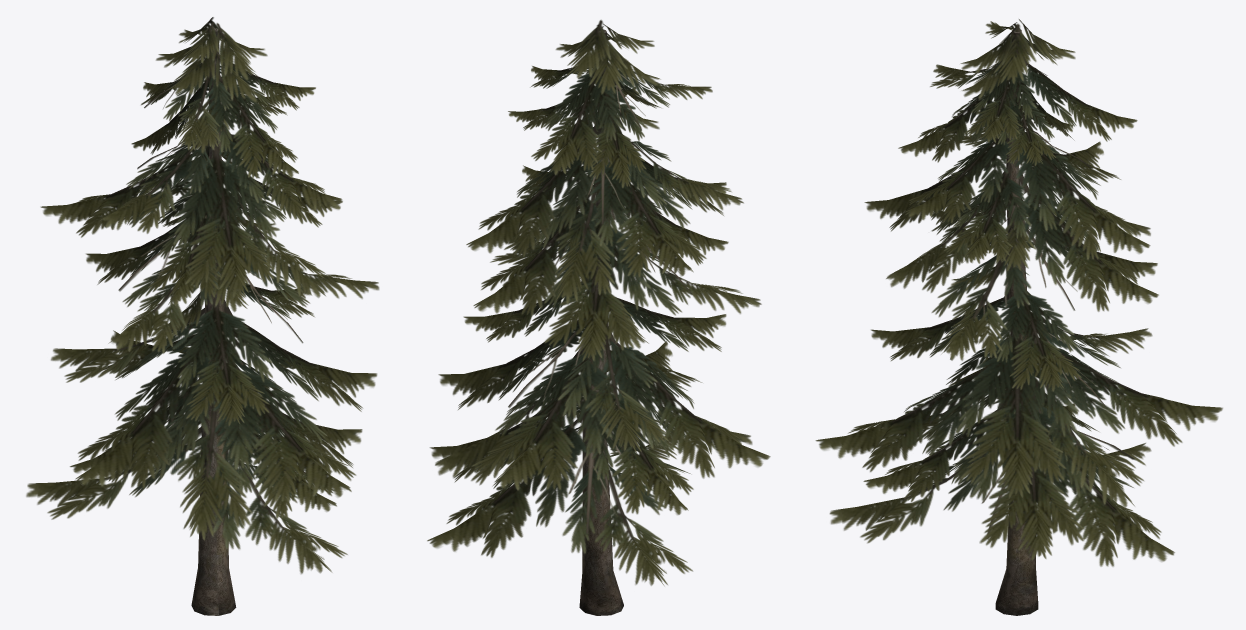
File: fire-large-2-dark.glb
The picture shows the model from 3 angles, left to right: view 1: azimuth 30°, elevation 25°; view 2: azimuth 150°, elevation 25°; view 3: azimuth 270°, elevation 25°; orthographic projection.
Visible parts, largest first — view 1: Branches, Tree_bark; view 2: Branches, Tree_bark; view 3: Branches, Tree_bark.
Part boxes in pixels (<box>): Branches: <box>26,17,379,574</box>; Tree_bark: <box>191,28,236,615</box>; Branches: <box>427,20,770,585</box>; Tree_bark: <box>579,29,623,615</box>; Branches: <box>815,19,1222,566</box>; Tree_bark: <box>995,29,1038,615</box>.
Bounding box in the file's own units: 365 × 624 × 405.
2 materials, 2 textured.
